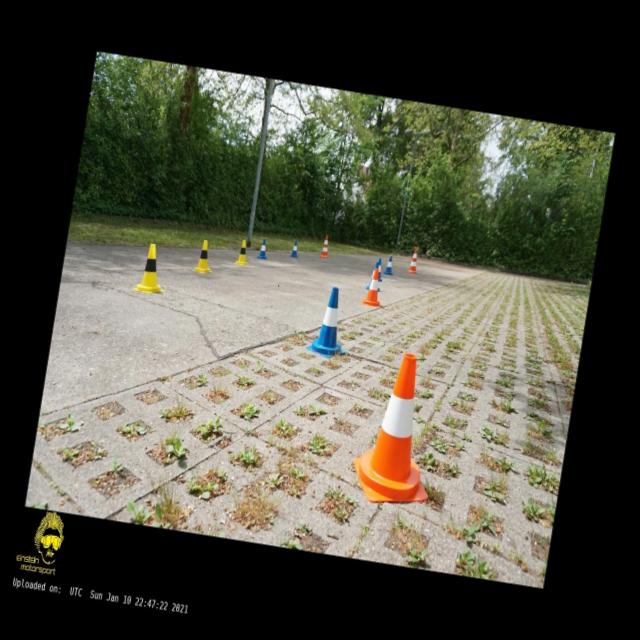blue_cone: (305, 284, 355, 360), (366, 260, 384, 292), (374, 258, 386, 282), (257, 239, 270, 260), (384, 255, 395, 275), (290, 240, 300, 258)
large_orange_cone: (408, 247, 420, 274), (319, 234, 332, 258)
orange_cone: (348, 348, 450, 510), (361, 267, 387, 307)
yellow_cone: (133, 242, 171, 295), (192, 239, 218, 274), (234, 239, 252, 266)
